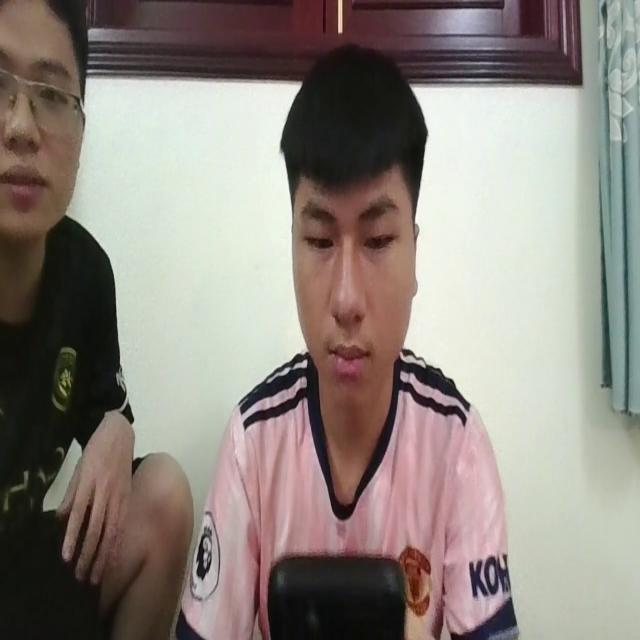extra_person: (1, 0, 191, 640)
phone: (265, 541, 407, 640)
student: (180, 50, 514, 640)
